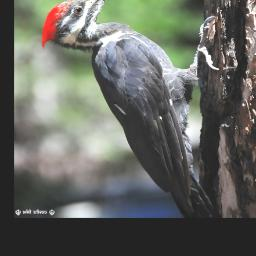Woodpecker: (39, 0, 219, 217)
